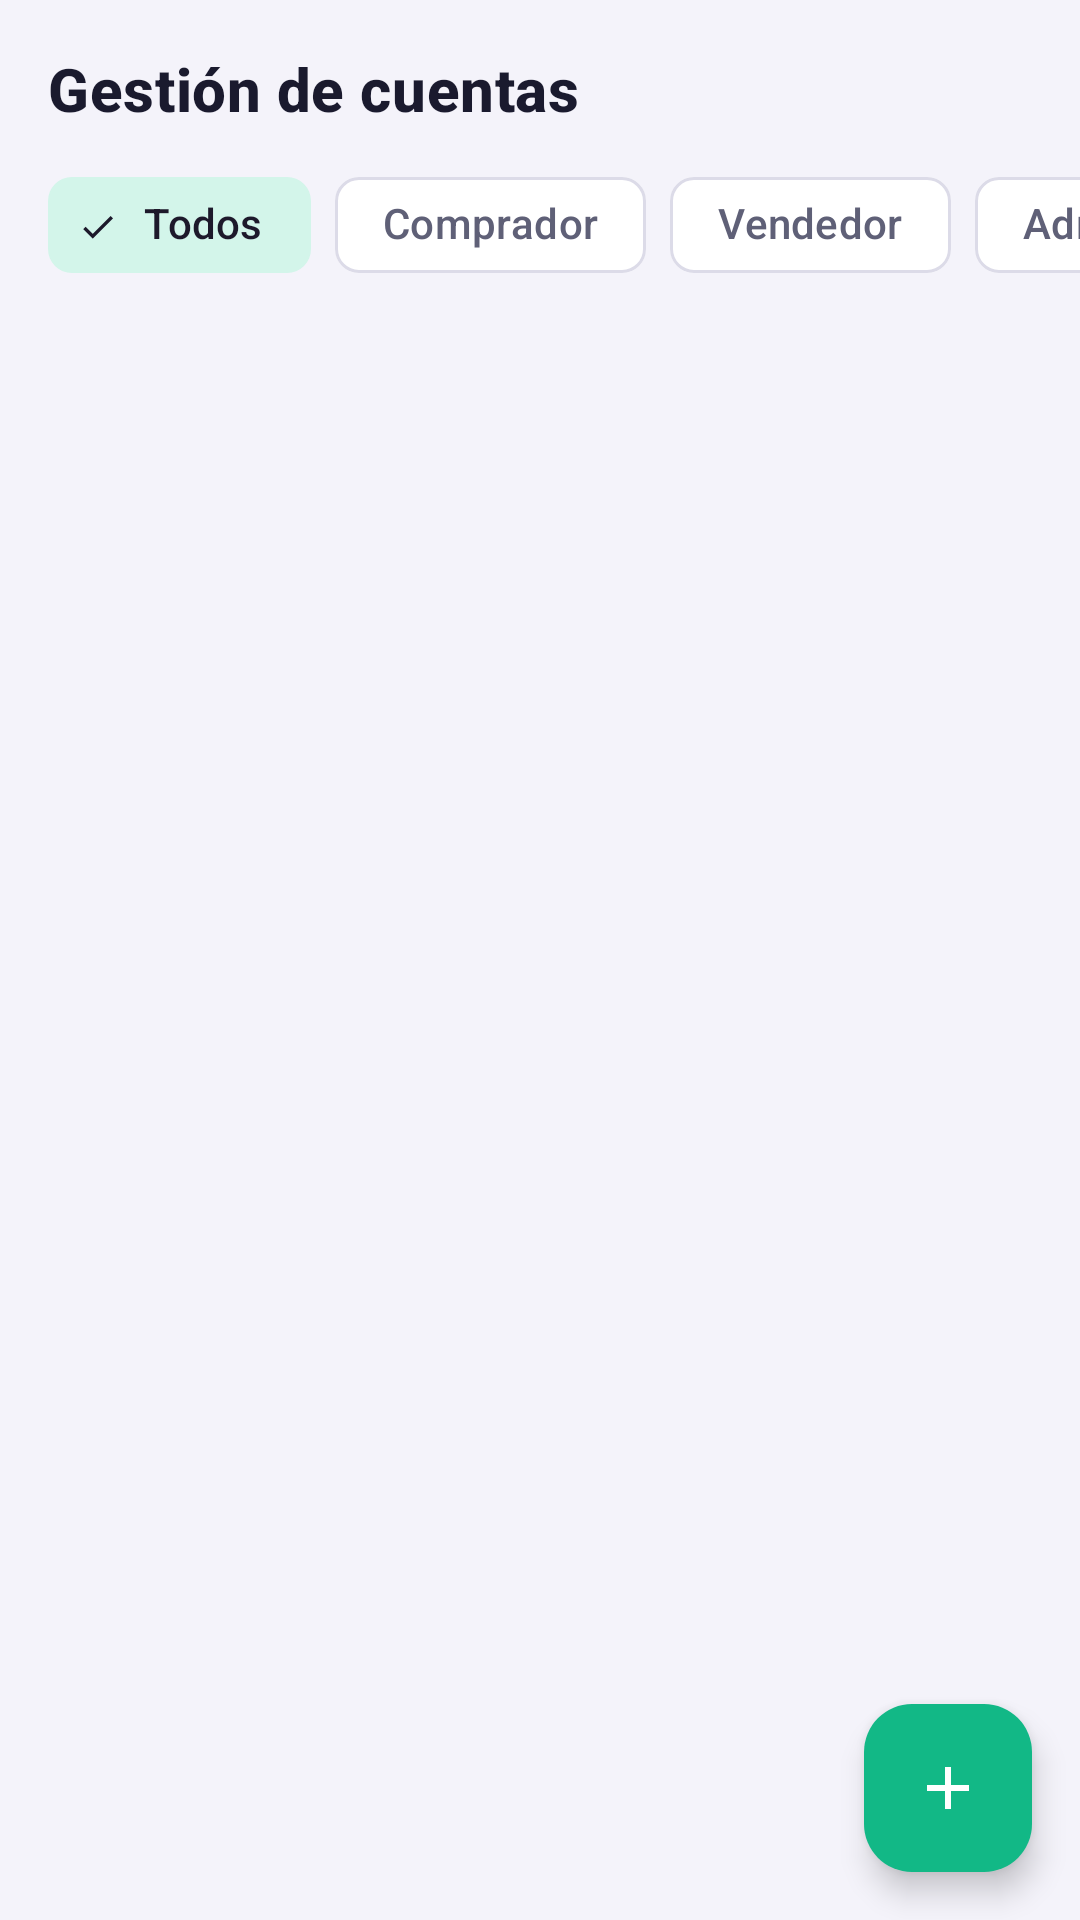

Icons on this 1080 x 1920 Android screen, each with the point to tap as (x=x, y=y):
Nuevo usuario: (x=948, y=1788)
